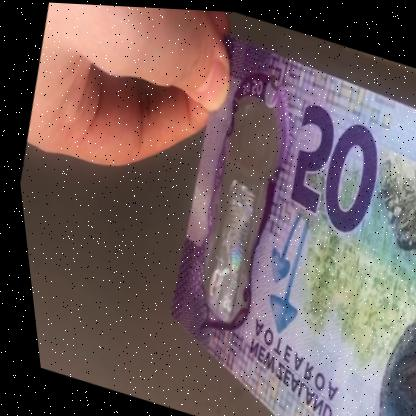50B: (173, 102, 293, 321)
